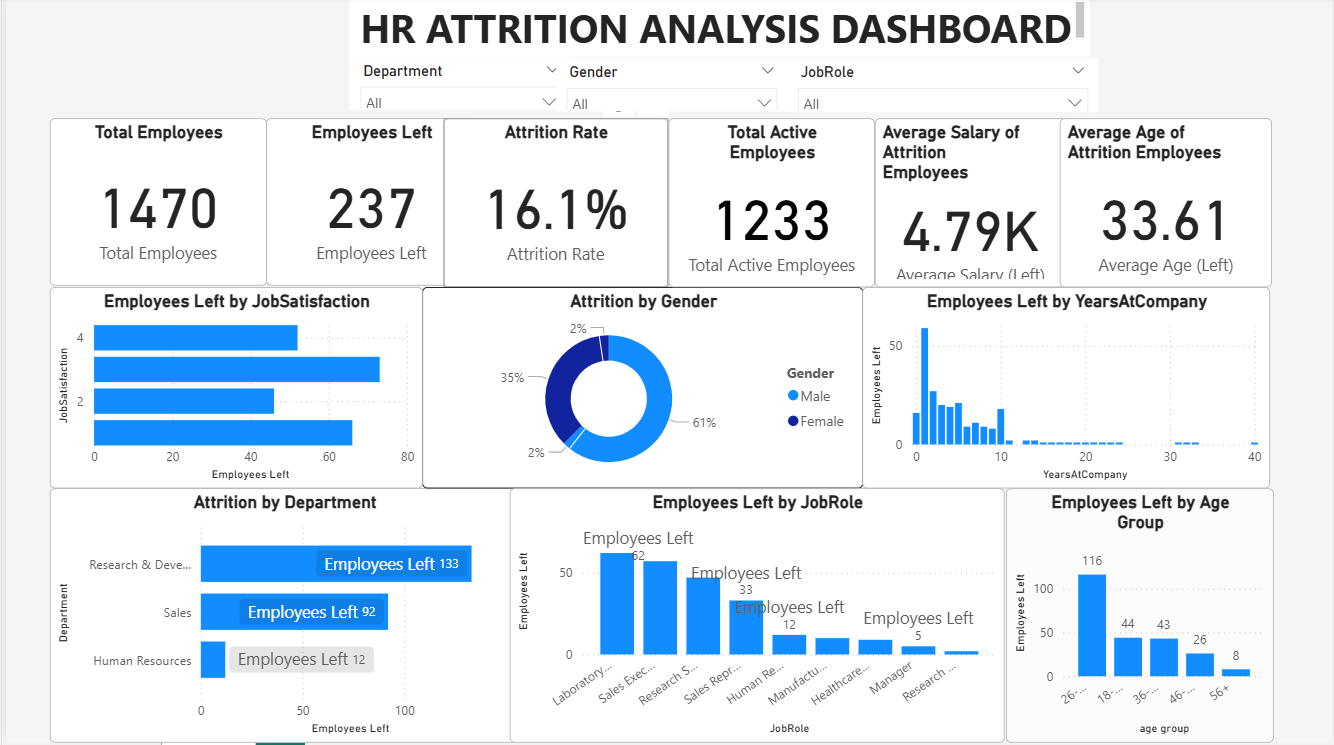

The dashboard page shown, as its layout file describes it:
{"tool":"powerbi","page":{"name":"Page 1","canvas":[1280,720],"ordinal":0},"visuals":[{"type":"card","title":"Total Employees","fields":{"Values":["WA_Fn-UseC_-HR-Employee-Attriti.Total Employees"]},"box":[41.8,116.9,209.2,161.6],"z":0},{"type":"card","title":"Employees Left","fields":{"Values":["WA_Fn-UseC_-HR-Employee-Attriti.Employees Left"]},"box":[251,116.9,203.4,161.6],"z":1000},{"type":"card","title":"Attrition Rate","fields":{"Values":["WA_Fn-UseC_-HR-Employee-Attriti.Attrition Rate"]},"box":[422.7,116.9,216.4,163],"z":2000},{"type":"clusteredBarChart","title":"Attrition by Department","fields":{"Category":["WA_Fn-UseC_-HR-Employee-Attriti.Department"],"Y":["WA_Fn-UseC_-HR-Employee-Attriti.Employees Left"]},"box":[41.8,474.7,453,245.3],"z":3000},{"type":"clusteredColumnChart","fields":{"Y":["WA_Fn-UseC_-HR-Employee-Attriti.Employees Left"],"Category":["WA_Fn-UseC_-HR-Employee-Attriti.Age Group"]},"box":[965.2,474.7,258.3,245.3],"z":4000},{"type":"donutChart","title":"Attrition by Gender","fields":{"Category":["WA_Fn-UseC_-HR-Employee-Attriti.Gender"],"Y":["WA_Fn-UseC_-HR-Employee-Attriti.Employees Left","WA_Fn-UseC_-HR-Employee-Attriti.Average Tenure (Left)"]},"box":[401.6,279.9,426,194.7],"z":5000},{"type":"clusteredColumnChart","fields":{"Category":["WA_Fn-UseC_-HR-Employee-Attriti.JobRole"],"Y":["WA_Fn-UseC_-HR-Employee-Attriti.Employees Left"]},"box":[486.2,474.7,477.6,245.3],"z":6000},{"type":"clusteredColumnChart","fields":{"Category":["WA_Fn-UseC_-HR-Employee-Attriti.YearsAtCompany"],"Y":["WA_Fn-UseC_-HR-Employee-Attriti.Employees Left"]},"box":[826.7,279.9,393.9,194.8],"z":7000},{"type":"card","title":"Total Active Employees","fields":{"Values":["WA_Fn-UseC_-HR-Employee-Attriti.Total Active Employees"]},"box":[639.1,116.9,199.1,163],"z":8000},{"type":"card","title":"Average Salary of Attrition Employees","fields":{"Values":["WA_Fn-UseC_-HR-Employee-Attriti.Average Salary (Left)"]},"box":[838.2,116.9,184.7,163],"z":9000},{"type":"card","title":"Average Age of Attrition Employees","fields":{"Values":["WA_Fn-UseC_-HR-Employee-Attriti.Average Age (Left)"]},"box":[1017.1,116.9,204.9,163],"z":10000},{"type":"clusteredBarChart","fields":{"Category":["WA_Fn-UseC_-HR-Employee-Attriti.JobSatisfaction"],"Y":["WA_Fn-UseC_-HR-Employee-Attriti.Employees Left"]},"box":[41.7,279.9,359.9,194.7],"z":11000},{"type":"textbox","box":[331.8,0,714.2,57.7],"z":12000},{"type":"slicer","fields":{"Values":["WA_Fn-UseC_-HR-Employee-Attriti.Department"]},"box":[331.8,57.7,215,50.5],"z":12001},{"type":"slicer","fields":{"Values":["WA_Fn-UseC_-HR-Employee-Attriti.Gender"]},"box":[530.9,59.2,223.6,50.5],"z":12002},{"type":"slicer","fields":{"Values":["WA_Fn-UseC_-HR-Employee-Attriti.JobRole"]},"box":[754.6,59.2,300.1,51.9],"z":12003}]}

Visuals, with their boxes in screenshot pixels (x1, y1, x2, y2), scaled from the page's 1280x720 canvas onto the 1334x745 screenshot:
"Total Employees" card: <region>44, 121, 262, 288</region>
"Employees Left" card: <region>262, 121, 474, 288</region>
"Attrition Rate" card: <region>441, 121, 666, 290</region>
"Attrition by Department" clusteredBarChart: <region>44, 491, 516, 744</region>
clusteredColumnChart - WA_Fn-UseC_-HR-Employee-Attriti.Employees Left x WA_Fn-UseC_-HR-Employee-Attriti.Age Group: <region>1006, 491, 1275, 744</region>
"Attrition by Gender" donutChart: <region>419, 290, 863, 491</region>
clusteredColumnChart - WA_Fn-UseC_-HR-Employee-Attriti.JobRole x WA_Fn-UseC_-HR-Employee-Attriti.Employees Left: <region>507, 491, 1004, 744</region>
clusteredColumnChart - WA_Fn-UseC_-HR-Employee-Attriti.YearsAtCompany x WA_Fn-UseC_-HR-Employee-Attriti.Employees Left: <region>862, 290, 1272, 491</region>
"Total Active Employees" card: <region>666, 121, 874, 290</region>
"Average Salary of Attrition Employees" card: <region>874, 121, 1066, 290</region>
"Average Age of Attrition Employees" card: <region>1060, 121, 1274, 290</region>
clusteredBarChart - WA_Fn-UseC_-HR-Employee-Attriti.JobSatisfaction x WA_Fn-UseC_-HR-Employee-Attriti.Employees Left: <region>43, 290, 419, 491</region>
textbox: <region>346, 0, 1090, 60</region>
slicer - WA_Fn-UseC_-HR-Employee-Attriti.Department: <region>346, 60, 570, 112</region>
slicer - WA_Fn-UseC_-HR-Employee-Attriti.Gender: <region>553, 61, 786, 114</region>
slicer - WA_Fn-UseC_-HR-Employee-Attriti.JobRole: <region>786, 61, 1099, 115</region>
